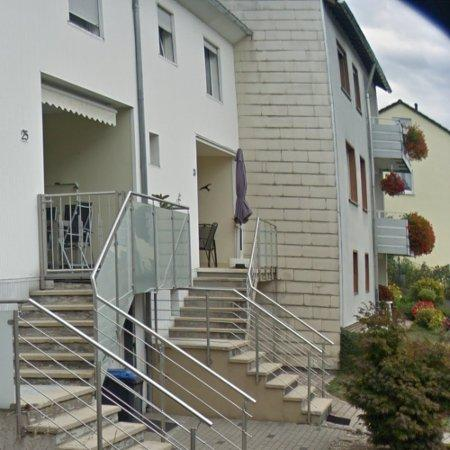stairs: (170, 287, 309, 423), (14, 305, 97, 450), (103, 402, 174, 450), (32, 288, 93, 337), (311, 379, 332, 426), (194, 270, 246, 285)
